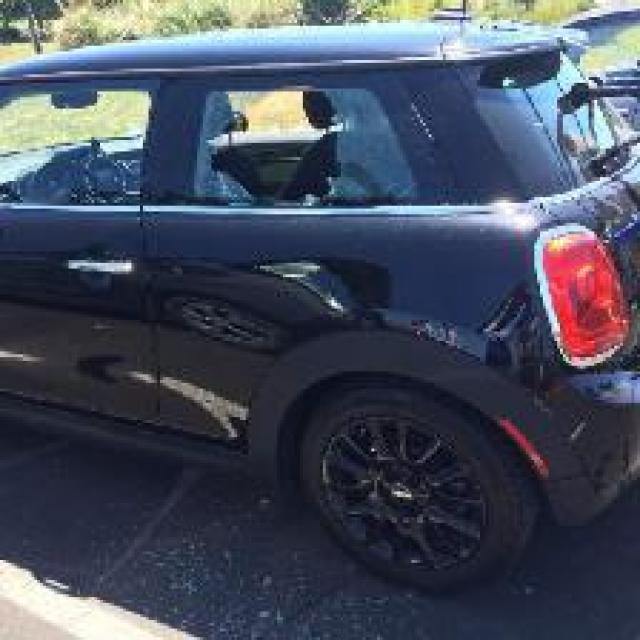damaged: (200, 88, 414, 212), (152, 254, 398, 354)
